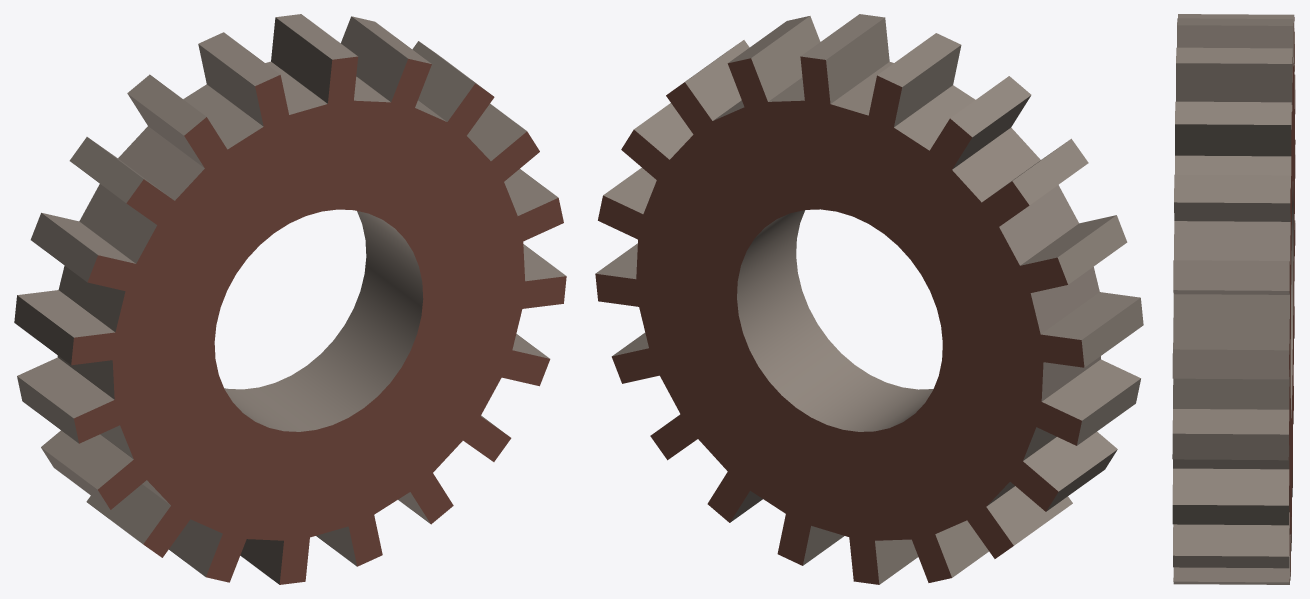
File: Engranajeadicional1.fbx
The picture shows the model from 3 angles, left to right: view 1: azimuth 30°, elevation 25°; view 2: azimuth 150°, elevation 25°; view 3: azimuth 270°, elevation 25°; orthographic projection.
Visible parts, largest first — view 1: pasted__pasted__pGear2.002; view 2: pasted__pasted__pGear2.002; view 3: pasted__pasted__pGear2.002.
Part boxes in pixels (left/top/right/bottom): pasted__pasted__pGear2.002: left=14, top=14, right=566, bottom=584; pasted__pasted__pGear2.002: left=595, top=14, right=1143, bottom=584; pasted__pasted__pGear2.002: left=1172, top=14, right=1295, bottom=584.
Size of the model in its own units: 3.92 by 3.92 by 0.8453.
